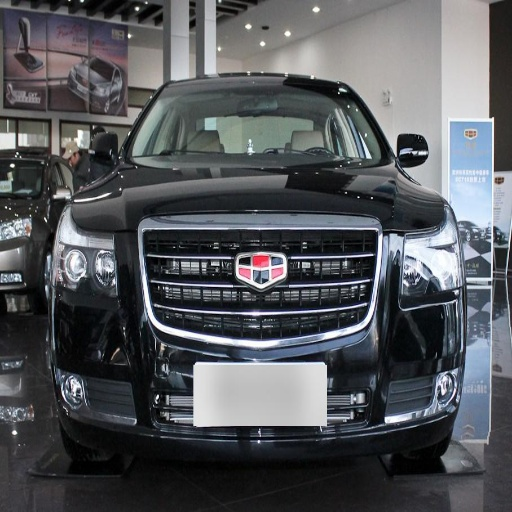front_bumper: (52, 231, 462, 458)
front_right_light: (58, 219, 119, 293)
hood: (75, 156, 442, 233)
